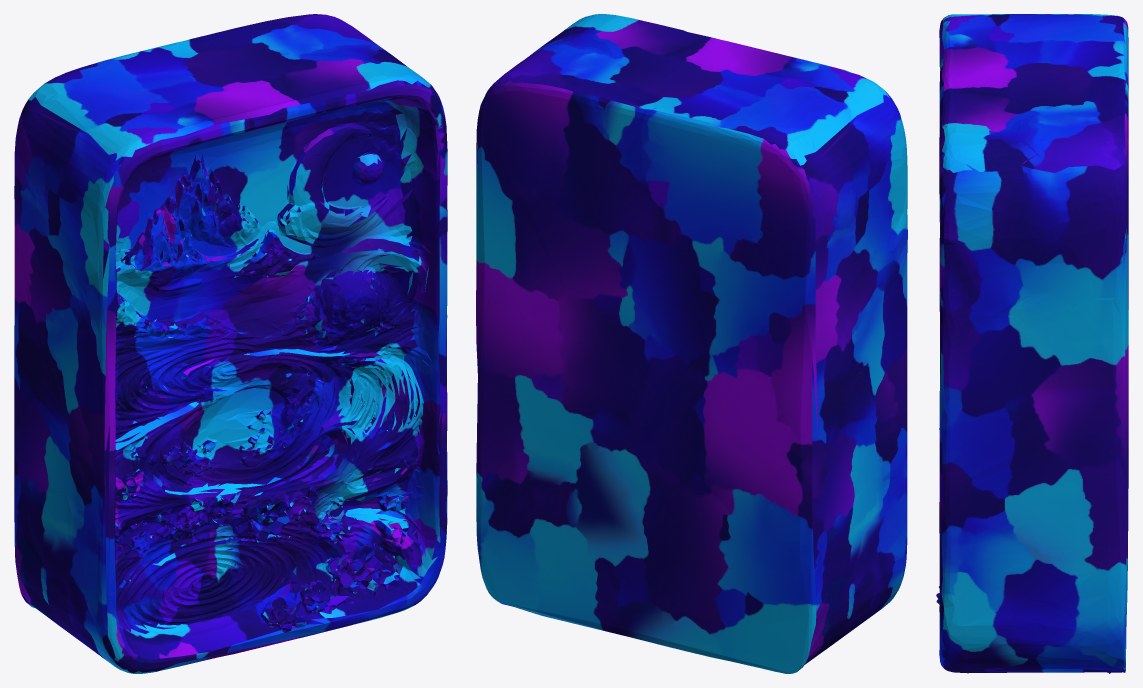
File: creative_1196e594a454.obj
3 renders of one model, left to right at view 1: azimuth 30°, elevation 25°; view 2: azimuth 150°, elevation 25°; view 3: azimuth 270°, elevation 25°, orthographic.
Parts seen in each view (by area): view 1: Mesh_0; view 2: Mesh_0; view 3: Mesh_0.
Boxes of the visible parts, x1,y1,x2,y2 form: Mesh_0: [14, 14, 447, 673]; Mesh_0: [476, 14, 907, 673]; Mesh_0: [936, 14, 1128, 673].
Size of the model in its own units: 1.29 by 1.91 by 0.6219.
Materials: 1 (1 with a texture image).
